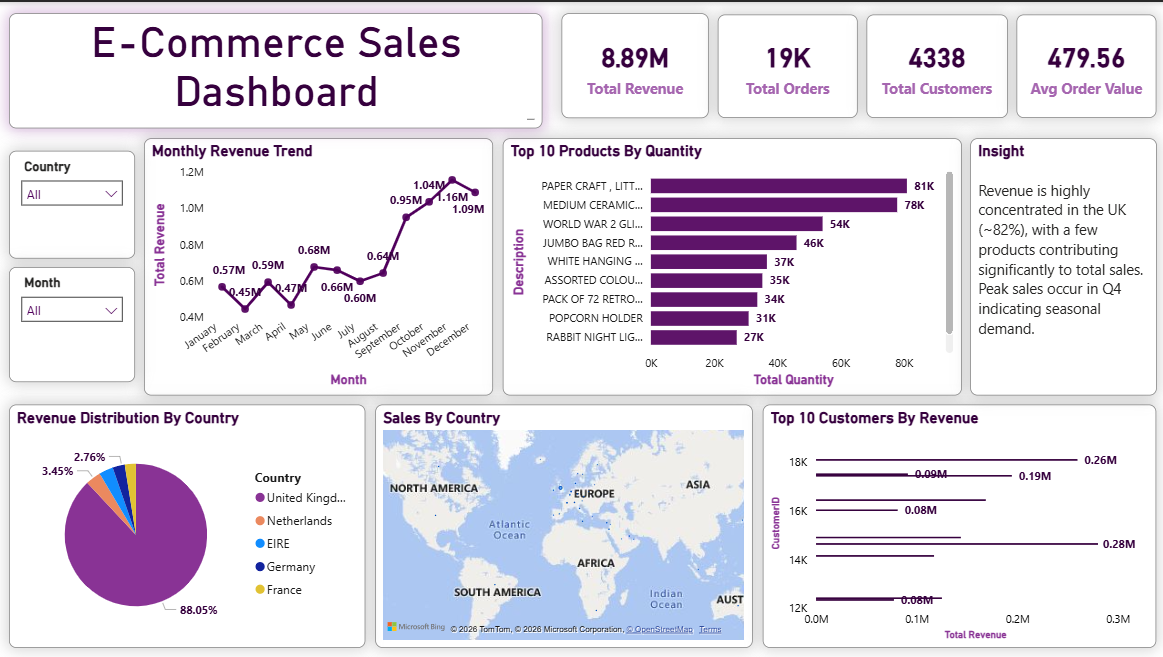

The page's visual inventory and layout, read from the dashboard file:
{"tool":"powerbi","page":{"name":"Page 1","canvas":[1280,720],"ordinal":0},"visuals":[{"type":"card","fields":{"Values":["cleaned_online_retail.Total Revenue"]},"box":[617.5,12.3,161.9,115.3],"z":0},{"type":"card","fields":{"Values":["cleaned_online_retail.Total Orders"]},"box":[789,13.7,153.7,113.9],"z":1000},{"type":"card","fields":{"Values":["cleaned_online_retail.Total Customers"]},"box":[952.3,13.7,155.1,113.9],"z":2000},{"type":"card","fields":{"Values":["cleaned_online_retail.Avg Order Value"]},"box":[1117,13.7,153.7,113.9],"z":3000},{"type":"lineChart","title":"Monthly Revenue Trend","fields":{"Category":["cleaned_online_retail.Month.Variation.Date Hierarchy.Month"],"Y":["cleaned_online_retail.Total Revenue"]},"box":[159.2,149.6,382.8,282.7],"z":4000},{"type":"clusteredBarChart","title":"Top 10 Products By Quantity","fields":{"Category":["cleaned_online_retail.Description"],"Y":["cleaned_online_retail.Total Quantity"]},"box":[552.3,149.6,503.6,282.7],"z":5000},{"type":"map","title":"Sales By Country","fields":{"Category":["cleaned_online_retail.Country"],"Size":["cleaned_online_retail.Total Revenue"]},"box":[413,441.9,414.4,267.6],"z":6000},{"type":"pieChart","title":"Revenue Distribution By Country","fields":{"Category":["cleaned_online_retail.Country"],"Y":["cleaned_online_retail.Total Revenue"]},"box":[11,441.9,391.1,267.6],"z":7000},{"type":"slicer","fields":{"Values":["cleaned_online_retail.Country"]},"box":[11,163.3,138.6,118],"z":8000},{"type":"slicer","fields":{"Values":["cleaned_online_retail.Month"]},"box":[11,290.9,138.6,126.2],"z":9000},{"type":"textbox","title":"E-Commerce Sales Dashboard","box":[11,12.3,585.9,126.2],"z":10000},{"type":"clusteredBarChart","title":"Top 10 Customers By Revenue","fields":{"Category":["cleaned_online_retail.CustomerID"],"Y":["cleaned_online_retail.Total Revenue"]},"box":[838.4,441.9,432.2,267.6],"z":11000},{"type":"textbox","title":"Insight","box":[1066.2,149.6,204.5,282.7],"z":12000}]}

Visuals, with their boxes in screenshot pixels (x1, y1, x2, y2), scaled from the page's 1280x720 canvas onto the 1163x657 screenshot:
card - cleaned_online_retail.Total Revenue: {"x1": 561, "y1": 11, "x2": 708, "y2": 116}
card - cleaned_online_retail.Total Orders: {"x1": 717, "y1": 13, "x2": 857, "y2": 116}
card - cleaned_online_retail.Total Customers: {"x1": 865, "y1": 13, "x2": 1006, "y2": 116}
card - cleaned_online_retail.Avg Order Value: {"x1": 1015, "y1": 13, "x2": 1155, "y2": 116}
"Monthly Revenue Trend" lineChart: {"x1": 145, "y1": 137, "x2": 492, "y2": 394}
"Top 10 Products By Quantity" clusteredBarChart: {"x1": 502, "y1": 137, "x2": 959, "y2": 394}
"Sales By Country" map: {"x1": 375, "y1": 403, "x2": 752, "y2": 647}
"Revenue Distribution By Country" pieChart: {"x1": 10, "y1": 403, "x2": 365, "y2": 647}
slicer - cleaned_online_retail.Country: {"x1": 10, "y1": 149, "x2": 136, "y2": 257}
slicer - cleaned_online_retail.Month: {"x1": 10, "y1": 265, "x2": 136, "y2": 381}
"E-Commerce Sales Dashboard" textbox: {"x1": 10, "y1": 11, "x2": 542, "y2": 126}
"Top 10 Customers By Revenue" clusteredBarChart: {"x1": 762, "y1": 403, "x2": 1154, "y2": 647}
"Insight" textbox: {"x1": 969, "y1": 137, "x2": 1155, "y2": 394}
